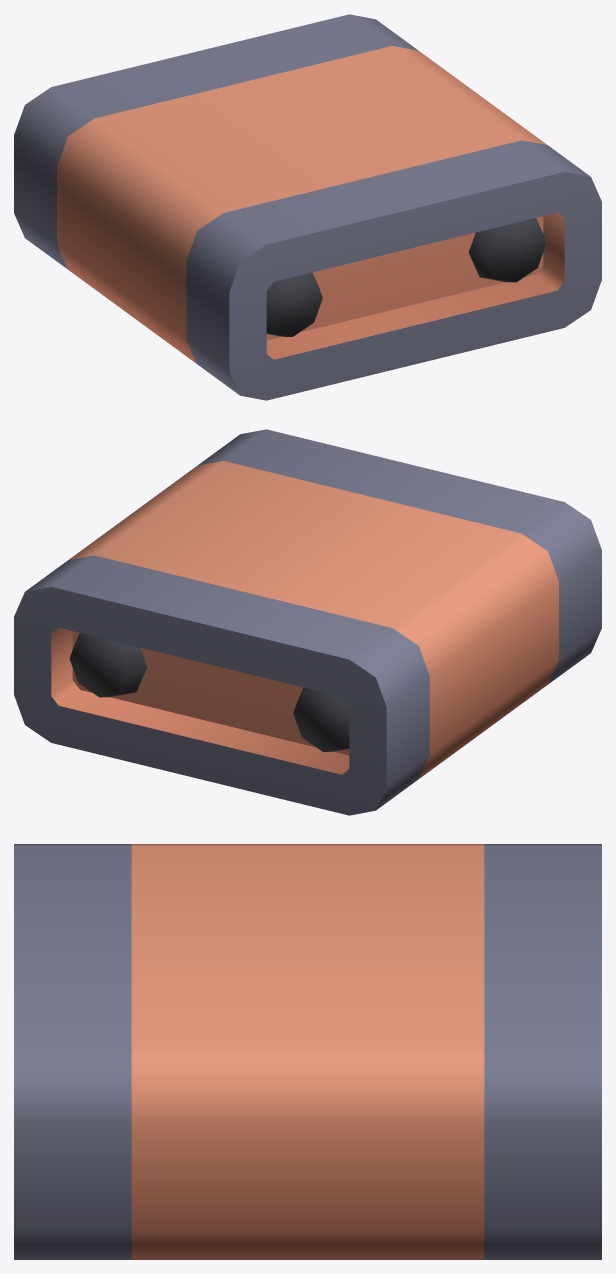
Rendered from conveyor-stripe.obj.
The picture shows the model from 3 angles, top to bottom: view 1: azimuth 30°, elevation 25°; view 2: azimuth 150°, elevation 25°; view 3: azimuth 270°, elevation 25°; orthographic projection. The views are drawn at different scales.
Parts seen in each view (by area): view 1: conveyor-stripe; view 2: conveyor-stripe; view 3: conveyor-stripe.
Part boxes in pixels (x1=…): conveyor-stripe: x1=14, y1=14, x2=601, y2=400; conveyor-stripe: x1=14, y1=429, x2=601, y2=815; conveyor-stripe: x1=14, y1=844, x2=601, y2=1259.
Size of the model in its own units: 1 by 0.4 by 1.
